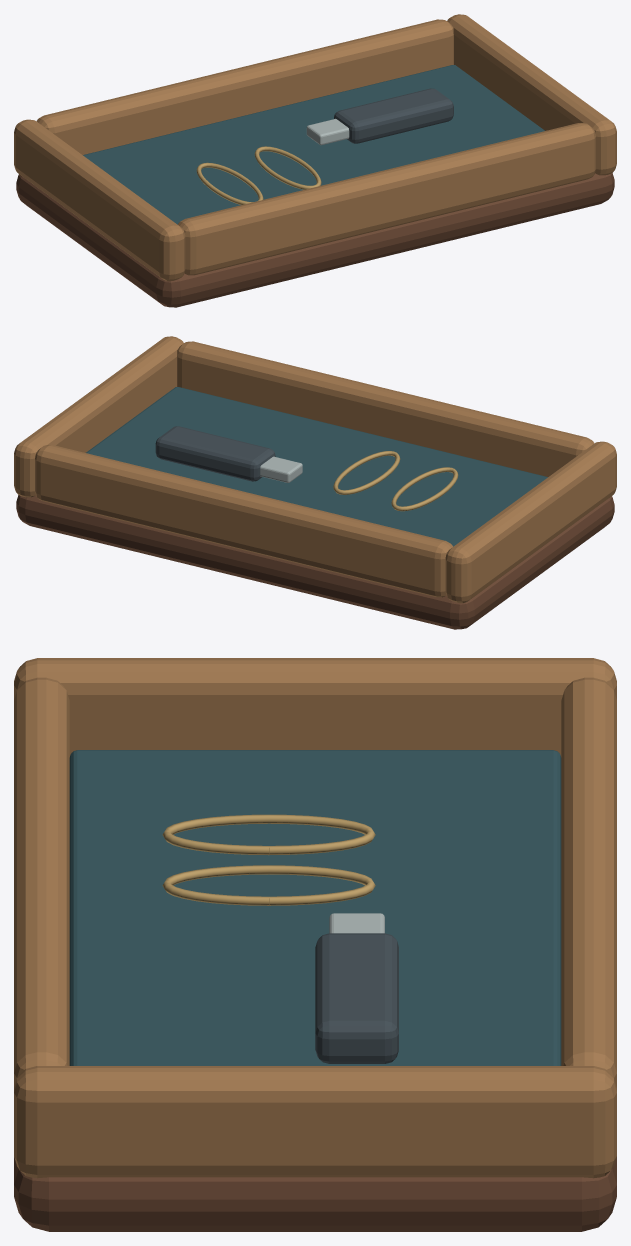
The model's file is valet_tray.glb.
The picture shows the model from 3 angles, top to bottom: view 1: azimuth 30°, elevation 25°; view 2: azimuth 150°, elevation 25°; view 3: azimuth 270°, elevation 25°; orthographic projection. The views are drawn at different scales.
Parts seen in each view (by area): view 1: Oak, Leather_teal, Walnut, Graphite, Brass_satin, Silver; view 2: Oak, Leather_teal, Walnut, Graphite, Brass_satin, Silver; view 3: Oak, Leather_teal, Walnut, Graphite, Brass_satin, Silver.
Part boxes in pixels (x1,y1,x2,y2): Oak: (14,14,616,281); Leather_teal: (83,65,544,224); Walnut: (16,173,614,307); Graphite: (334,88,453,143); Brass_satin: (196,146,321,204); Silver: (306,118,349,145); Oak: (14,336,616,603); Leather_teal: (86,387,547,546); Walnut: (16,495,614,629); Graphite: (155,426,275,481); Brass_satin: (333,451,458,511); Silver: (260,456,302,482); Oak: (14,658,616,1178); Leather_teal: (69,750,561,1065); Walnut: (14,1157,616,1231); Graphite: (315,933,398,1063); Brass_satin: (162,814,375,905); Silver: (329,913,384,933).
Size of the model in its own units: 0.22 by 0.0385 by 0.13.
